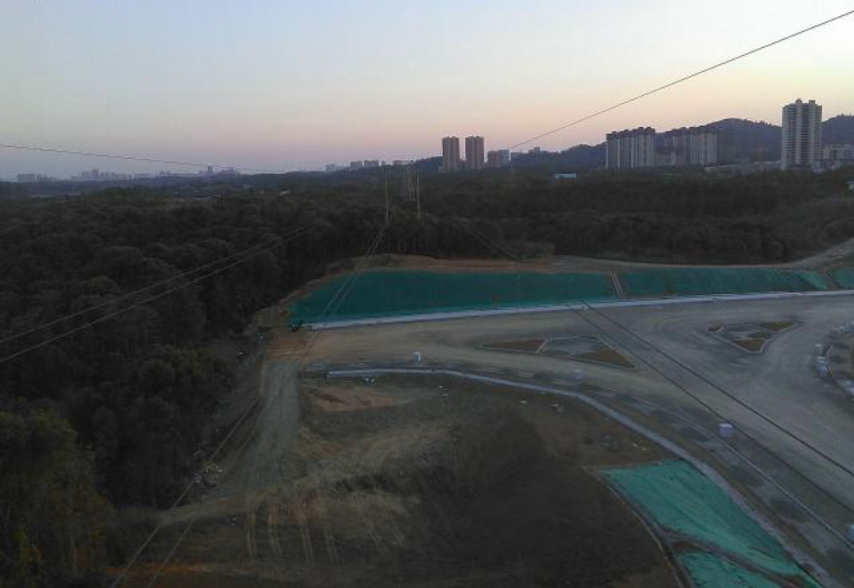绿膜: (594, 456, 824, 587), (282, 268, 619, 327), (614, 265, 830, 300), (824, 265, 853, 290)
